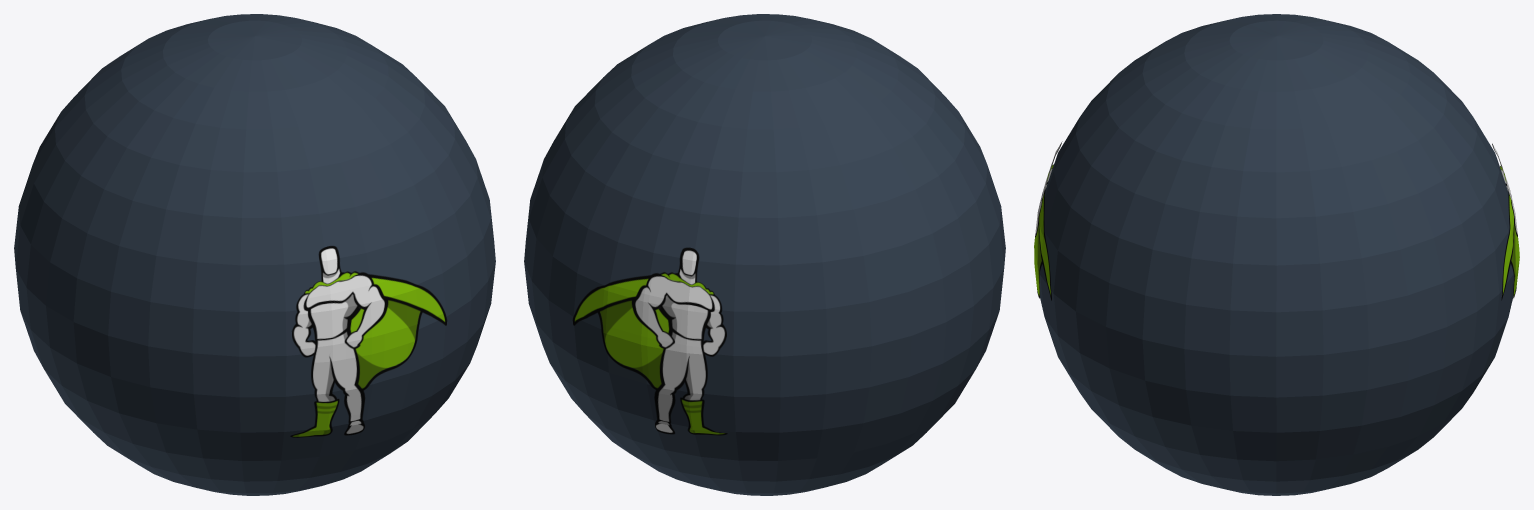
File: gsap.gltf
The picture shows the model from 3 angles, left to right: view 1: azimuth 30°, elevation 25°; view 2: azimuth 150°, elevation 25°; view 3: azimuth 270°, elevation 25°; orthographic projection.
Visible parts, largest first — view 1: Sphere.001, 584830fecef1014c0b5e4aa2.001; view 2: Sphere.001, 584830fecef1014c0b5e4aa2; view 3: Sphere.001, 584830fecef1014c0b5e4aa2.001, 584830fecef1014c0b5e4aa2.
Part boxes in pixels (box(x1,y1,x2,y2)): Sphere.001: box(14, 14, 495, 495); 584830fecef1014c0b5e4aa2.001: box(290, 246, 447, 437); Sphere.001: box(524, 14, 1005, 495); 584830fecef1014c0b5e4aa2: box(572, 247, 727, 435); Sphere.001: box(1039, 14, 1514, 495); 584830fecef1014c0b5e4aa2.001: box(1034, 141, 1062, 300); 584830fecef1014c0b5e4aa2: box(1492, 143, 1519, 300).
Size of the model in its own units: 2 by 2 by 2.01.
Materials: 2 (1 with a texture image).
